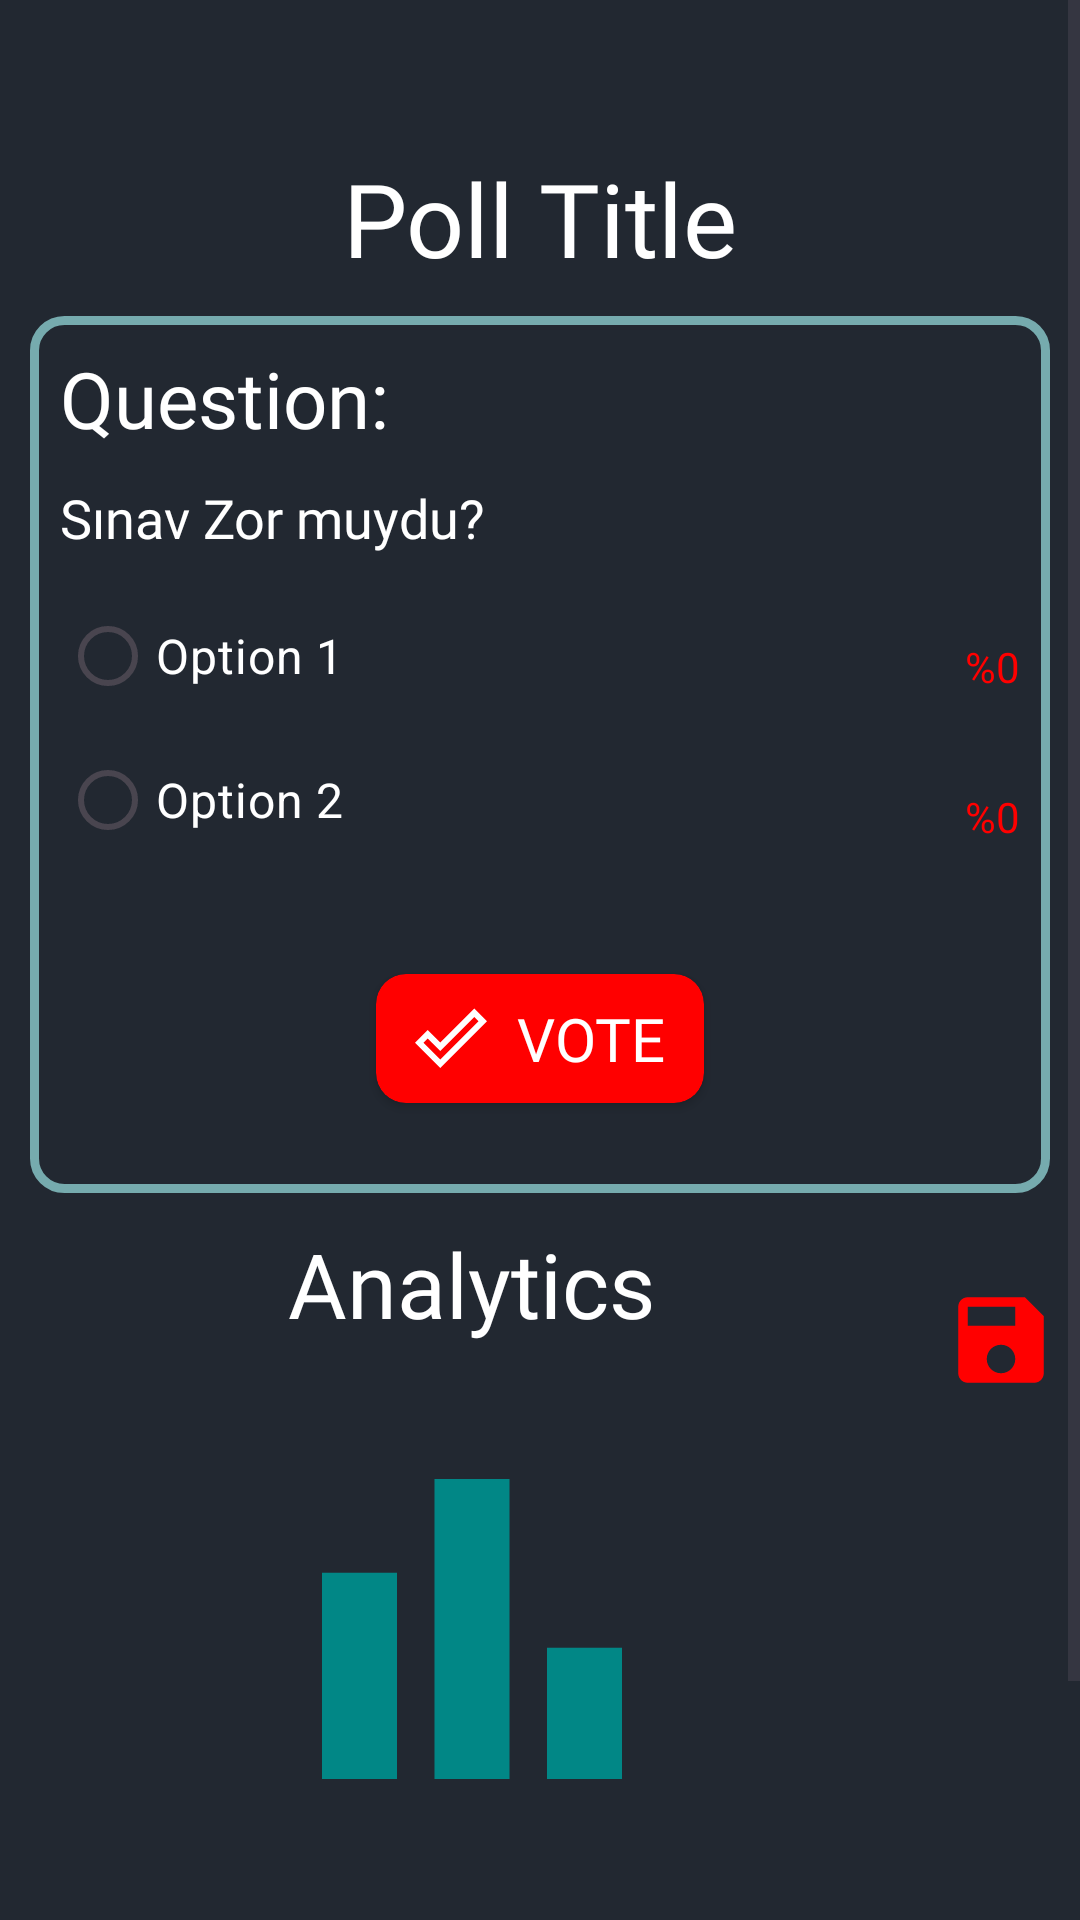

Named icons in this screenshot (1080x1920) and their centers, (x,y):
bar chart: (472,1629)
save: (1001,1340)
